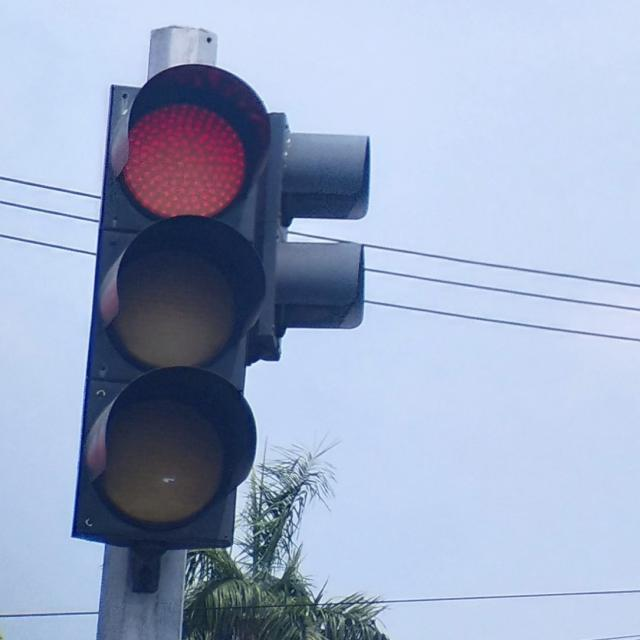red_light: (70, 63, 283, 558)
